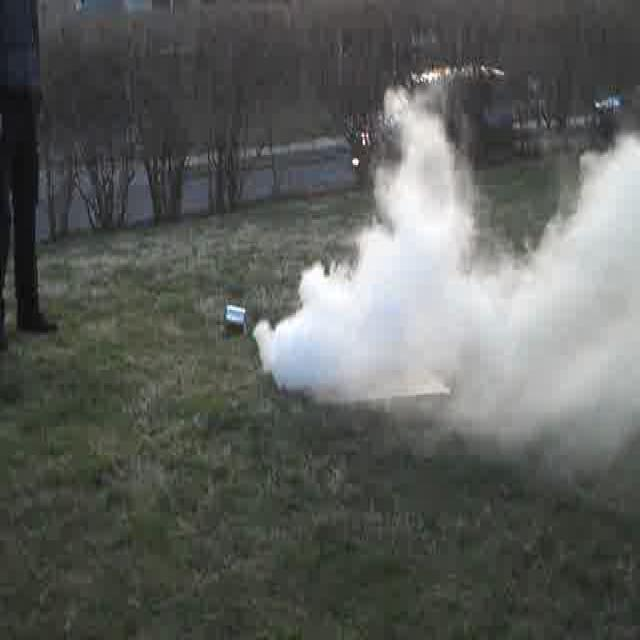Smoke: (261, 224, 640, 414)
